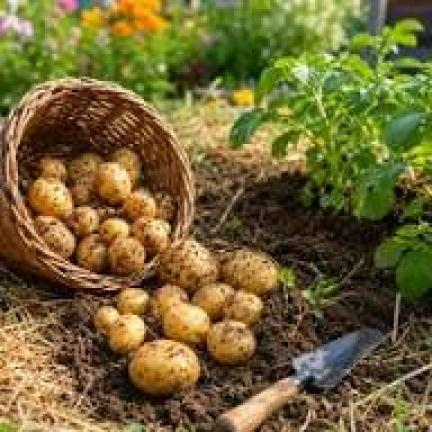potato: (128, 340, 198, 394), (160, 239, 216, 290), (220, 250, 277, 292), (207, 320, 254, 362), (162, 304, 207, 342), (68, 153, 101, 202), (191, 284, 232, 320), (27, 178, 70, 212), (36, 216, 72, 256), (108, 313, 144, 351), (108, 236, 144, 272), (99, 162, 130, 202), (130, 220, 166, 254), (225, 290, 261, 324), (151, 284, 187, 315), (76, 236, 106, 270), (113, 148, 137, 182), (124, 191, 153, 216), (117, 288, 146, 313), (68, 207, 94, 234), (99, 218, 128, 241), (94, 308, 117, 333), (155, 191, 173, 220), (40, 158, 63, 180), (97, 205, 117, 218)
